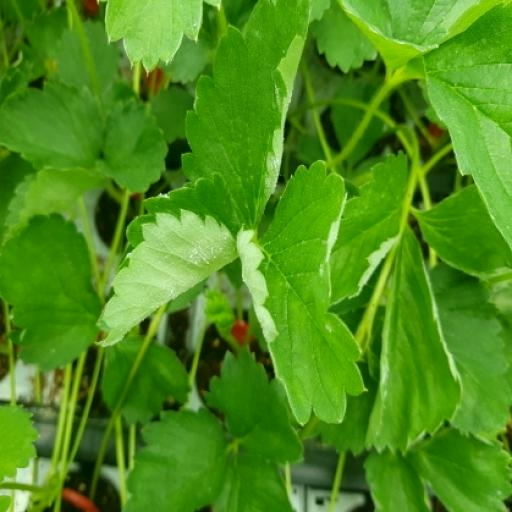Powdery Mildew Leaf: (144, 160, 276, 428), (200, 0, 331, 242), (273, 172, 418, 347), (49, 222, 147, 456), (103, 149, 185, 310)
